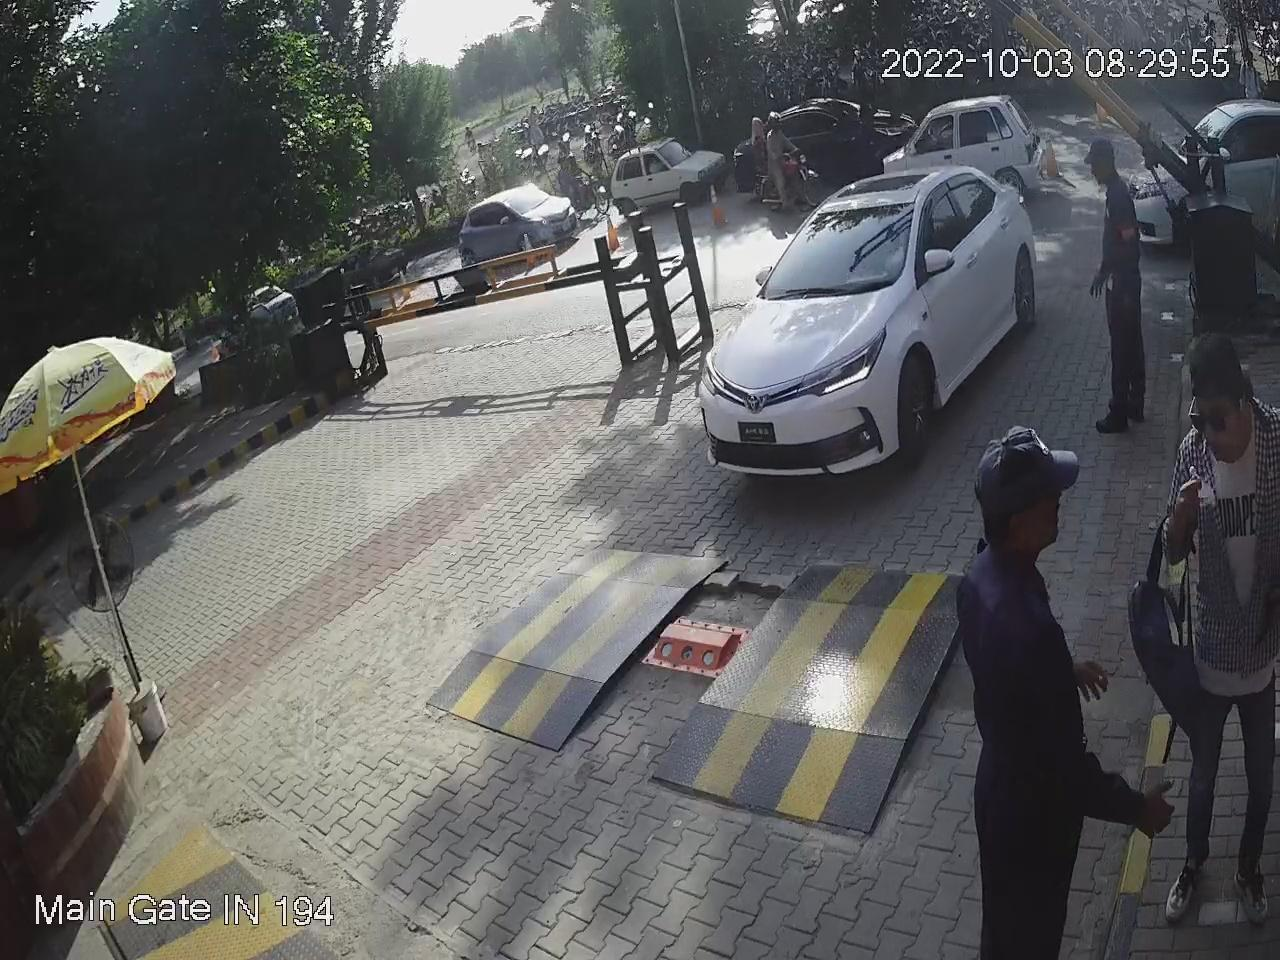windshield: (765, 195, 920, 303)
